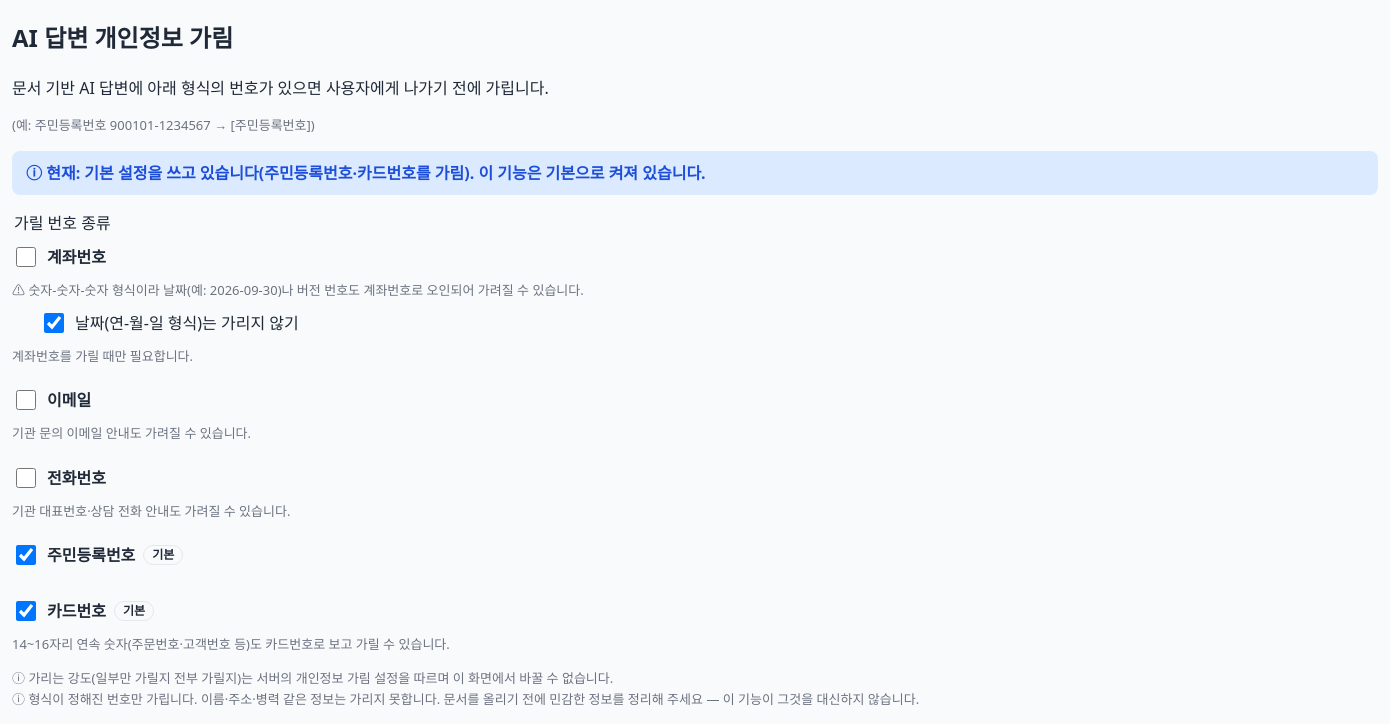
Test: GR-3 AI 답변 개인정보 가림 설정 › 거버넌스 하한 오류(400)는 배너로 알리고 설정을 다시 불러온다
What coordinates should you click on to do the following:
click the checkbox labelled "전화번호"
I would click on:
 (26, 478)
Its box is left=16, top=468, right=36, bottom=488.
(page scrolled)
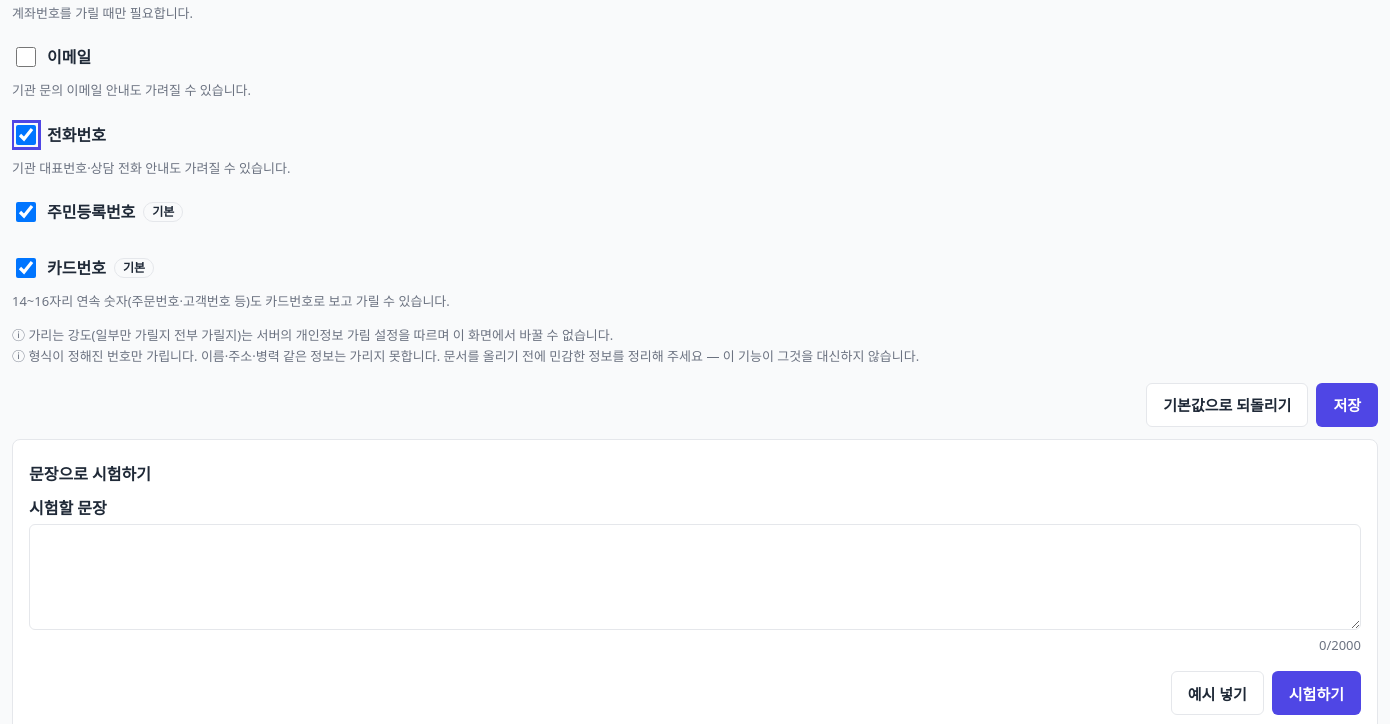
What coordinates should you click on to do the following:
click the button "저장"
I would click on:
 (1347, 405)
Its box is left=1316, top=383, right=1378, bottom=427.
(page scrolled)
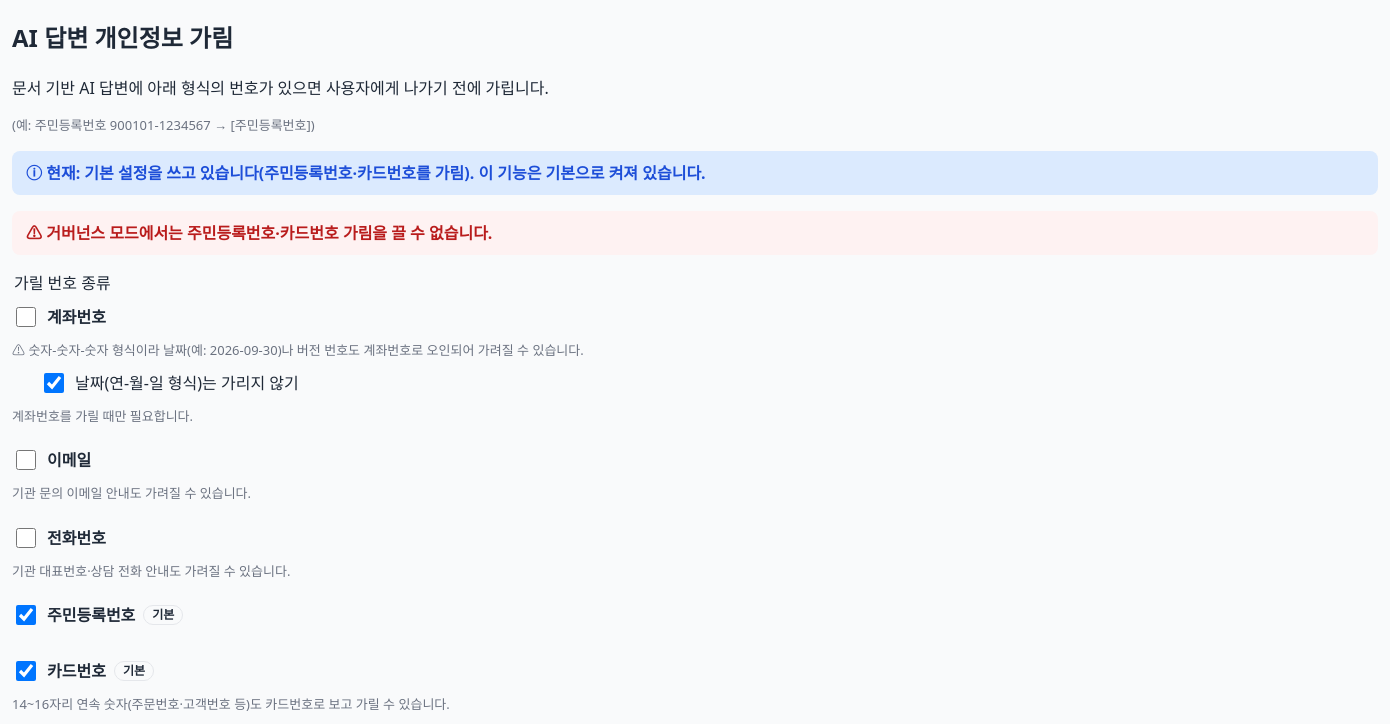
Expected: the text "거버넌스 모드에서는 주민등록번호·카드번호 가림을 끌 수 없습니다." is shown, left=46, top=222, right=492, bottom=244
